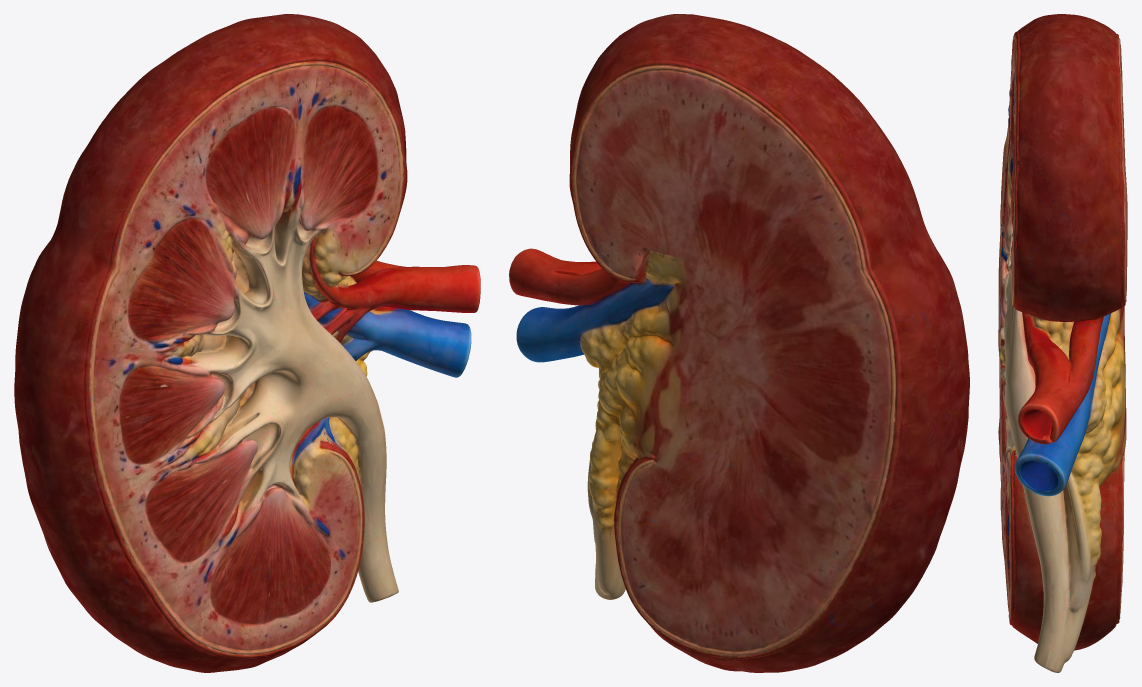
The model's file is g3d-human-kidney.glb.
The picture shows the model from 3 angles, left to right: view 1: azimuth 30°, elevation 25°; view 2: azimuth 150°, elevation 25°; view 3: azimuth 270°, elevation 25°; orthographic projection. The views are drawn at different scales.
Visible parts, largest first — view 1: human-kidney; view 2: human-kidney; view 3: human-kidney.
Part boxes in pixels (<box>): human-kidney: <box>14,14,480,672</box>; human-kidney: <box>509,14,969,672</box>; human-kidney: <box>998,14,1127,672</box>.
Size of the model in its own units: 0.0888 by 0.12 by 0.0227.
1 material, 1 textured.
